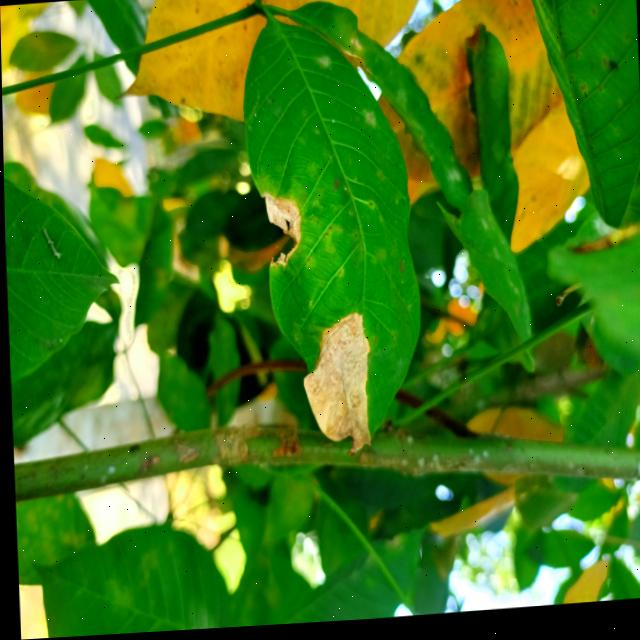Leaf-Blight: (298, 316, 371, 461), (260, 194, 300, 274)
